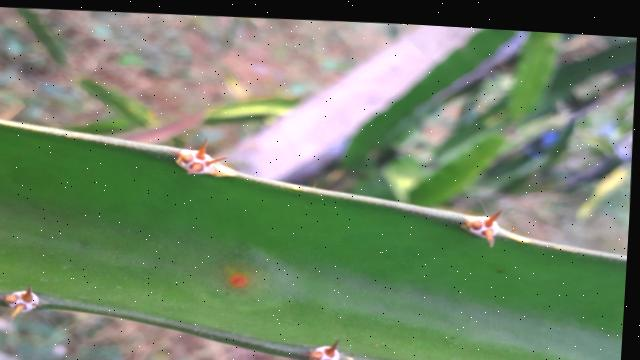stemcanker: (213, 260, 261, 300)
